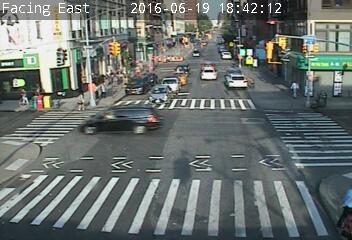neg: (313, 85, 330, 109), (332, 79, 346, 98), (250, 54, 263, 71)
pos: (73, 90, 89, 111), (14, 85, 29, 107), (287, 79, 302, 100), (97, 78, 110, 96), (113, 68, 126, 86)
